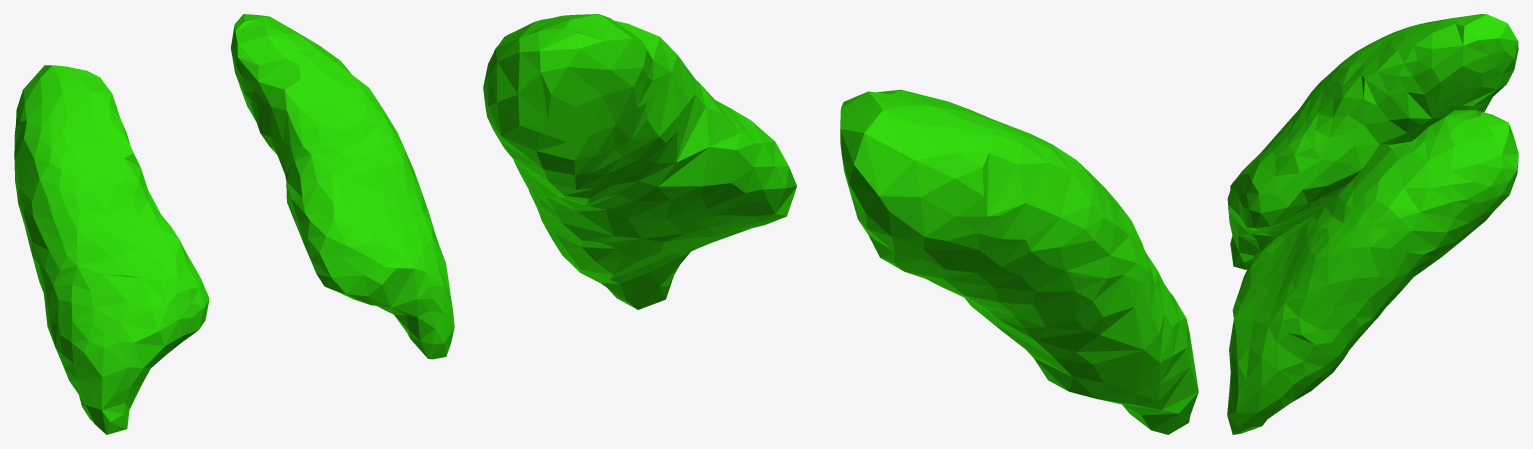
Rendered from 137-PECg-parietal area PE, cingulate part-('0.1882', '1.0000', '0.0000').obj.
3 renders of one model, left to right at view 1: azimuth 30°, elevation 25°; view 2: azimuth 150°, elevation 25°; view 3: azimuth 270°, elevation 25°, orthographic. The views are drawn at different scales.
Size of the model in its own units: 91.26 by 62.84 by 58.34.
